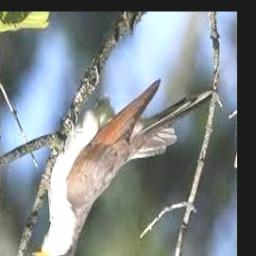Cuckoo: (31, 78, 177, 256)
